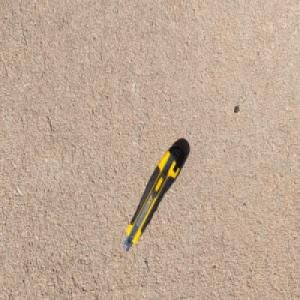Cutter: (123, 142, 186, 253)
